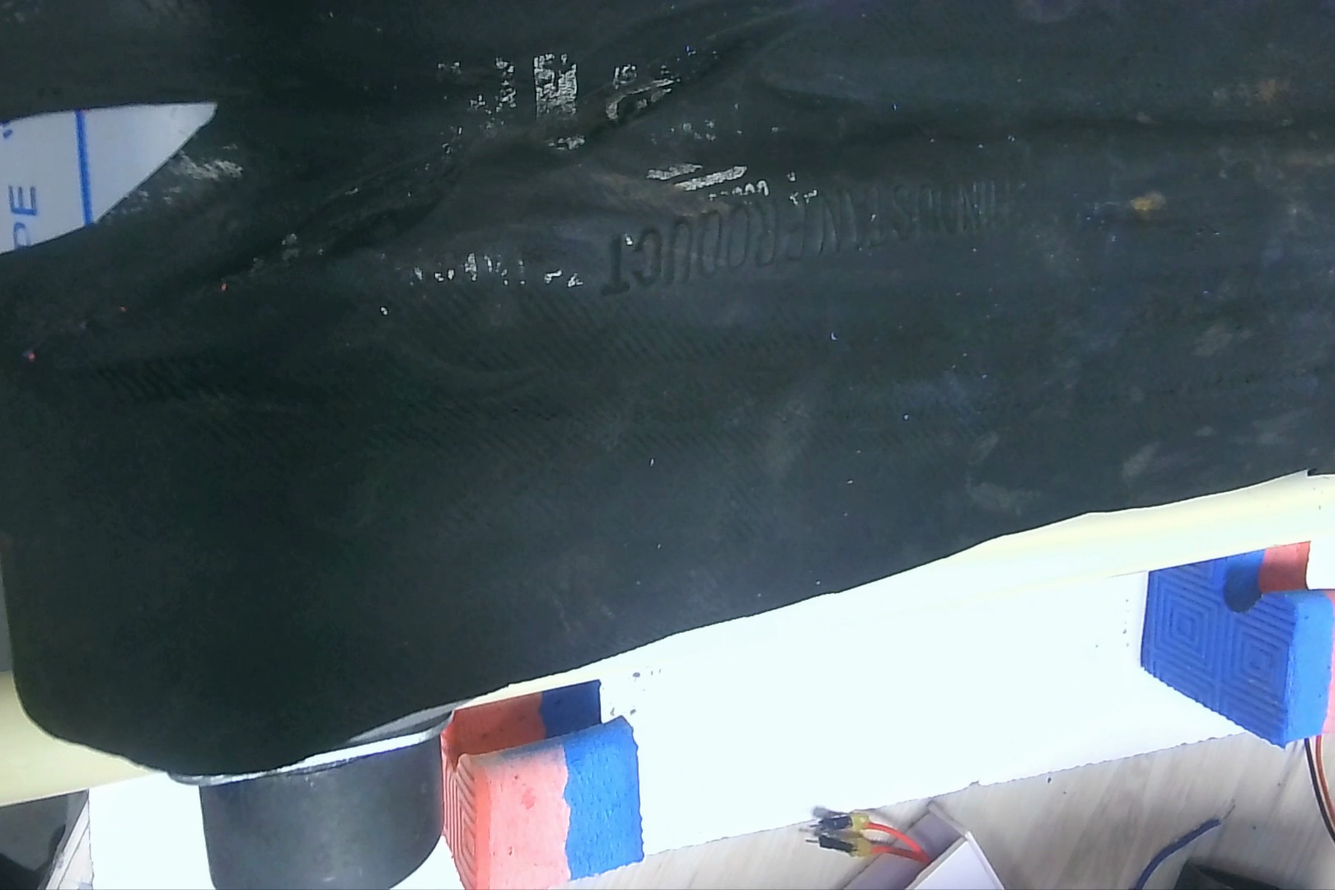hole: (3, 95, 228, 262)
tear: (684, 174, 739, 188)
